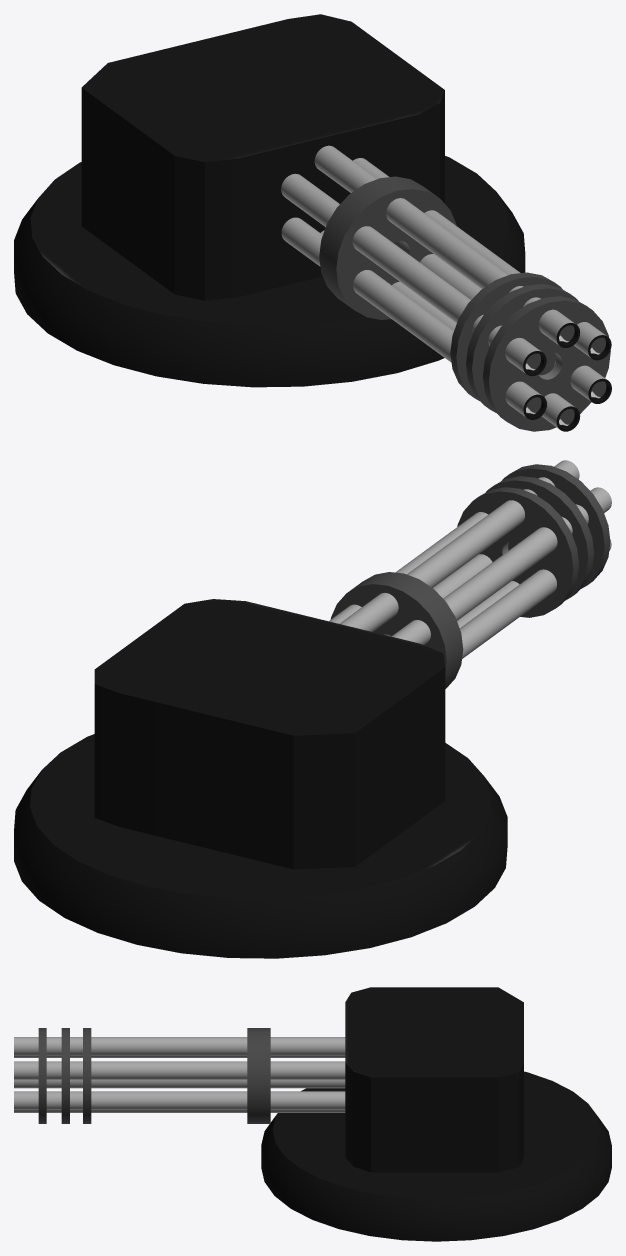
File: minigunturret_msh.fbx
The picture shows the model from 3 angles, top to bottom: view 1: azimuth 30°, elevation 25°; view 2: azimuth 150°, elevation 25°; view 3: azimuth 270°, elevation 25°; orthographic projection. The views are drawn at different scales.
Parts seen in each view (by area): view 1: turretbase, bigjoiner, joiner1, barrel6, barrel1, barrel5, joiner2, joiner3, barrel2, barrel3, barrel4; view 2: turretbase, joiner3, bigjoiner, barrel1, barrel6, barrel5, joiner1, joiner2, barrel2, barrel3; view 3: turretbase, barrel1, barrel3, barrel2, barrel5, bigjoiner, joiner1, joiner2, joiner3, barrel4, barrel6.
Part boxes in pixels (left/top/right/bottom): turretbase: left=14, top=14, right=525, bottom=387; bigjoiner: left=319, top=176, right=456, bottom=319; joiner1: left=482, top=296, right=610, bottom=431; barrel6: left=281, top=173, right=546, bottom=376; barrel1: left=314, top=145, right=580, bottom=347; barrel5: left=281, top=217, right=546, bottom=419; joiner2: left=466, top=284, right=578, bottom=412; joiner3: left=450, top=272, right=562, bottom=401; barrel2: left=353, top=158, right=611, bottom=360; barrel3: left=420, top=254, right=611, bottom=403; barrel4: left=320, top=230, right=580, bottom=431; turretbase: left=14, top=599, right=507, bottom=958; joiner3: left=457, top=487, right=578, bottom=617; bigjoiner: left=330, top=572, right=463, bottom=688; barrel1: left=339, top=460, right=579, bottom=631; barrel6: left=391, top=487, right=611, bottom=644; barrel5: left=459, top=539, right=611, bottom=658; joiner1: left=502, top=464, right=610, bottom=588; joiner2: left=486, top=476, right=594, bottom=600; barrel2: left=329, top=512, right=488, bottom=623; barrel3: left=433, top=554, right=492, bottom=598; turretbase: left=261, top=987, right=611, bottom=1241; barrel1: left=14, top=1037, right=345, bottom=1055; barrel3: left=14, top=1091, right=345, bottom=1109; barrel2: left=14, top=1061, right=345, bottom=1079; barrel5: left=14, top=1079, right=345, bottom=1088; bigjoiner: left=247, top=1028, right=270, bottom=1123; joiner1: left=38, top=1028, right=46, bottom=1123; joiner2: left=61, top=1028, right=69, bottom=1123; joiner3: left=83, top=1028, right=91, bottom=1123; barrel4: left=14, top=1110, right=345, bottom=1112; barrel6: left=14, top=1055, right=345, bottom=1057.
Bounding box in the file's own units: 119 × 49.53 × 203.
